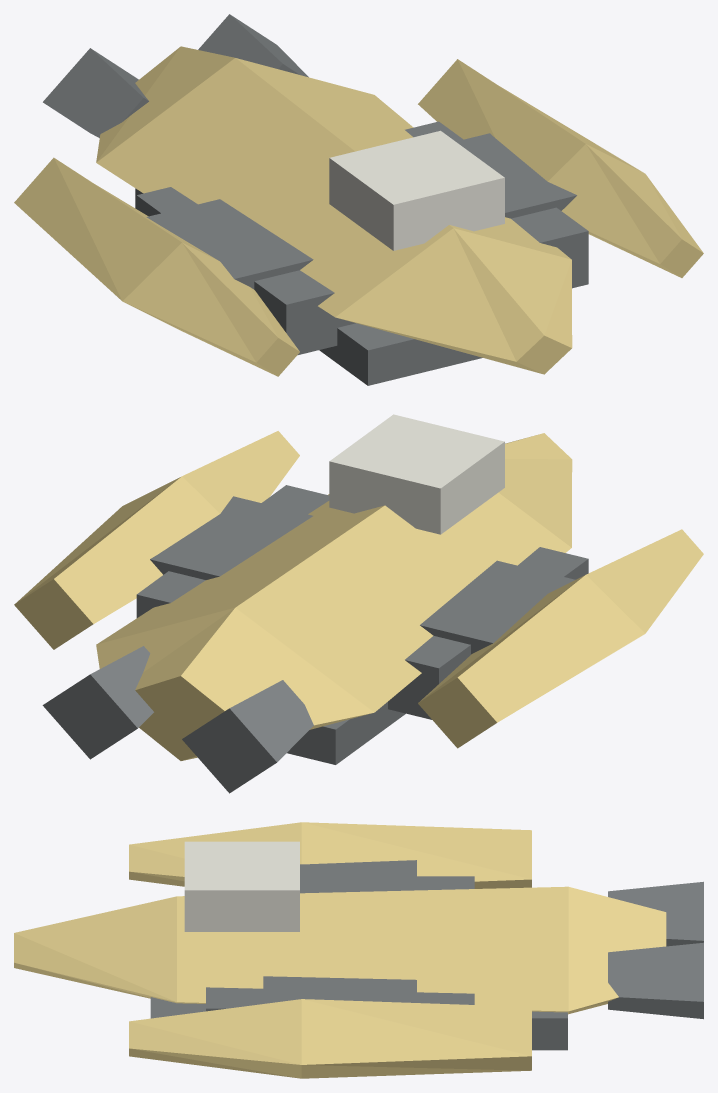
3 renders of one model, top to bottom at view 1: azimuth 30°, elevation 25°; view 2: azimuth 150°, elevation 25°; view 3: azimuth 270°, elevation 25°, orthographic. The views are drawn at different scales.
Size of the model in its own units: 6.1 by 1.84 by 7.77.
